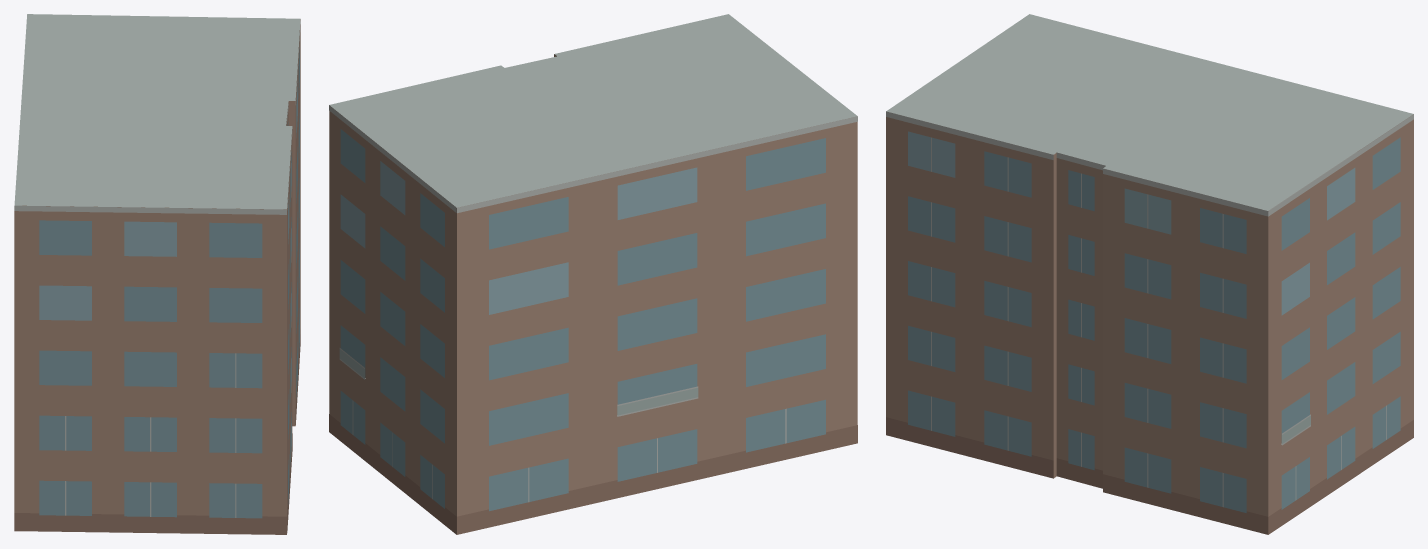
File: survey-upis-33021069.glb
3 views of the same model, side by side, from view 1: azimuth 30°, elevation 25°; view 2: azimuth 150°, elevation 25°; view 3: azimuth 270°, elevation 25° (orthographic).
Visible parts, largest first — view 1: survey-upis-33021069.tmp; view 2: survey-upis-33021069.tmp; view 3: survey-upis-33021069.tmp.
Boxes of the visible parts, x1,y1,x2,y2 form: survey-upis-33021069.tmp: (14,14,300,534); survey-upis-33021069.tmp: (329,14,857,534); survey-upis-33021069.tmp: (886,14,1413,534).
Size of the model in its own units: 18.94 by 14.5 by 21.43.
